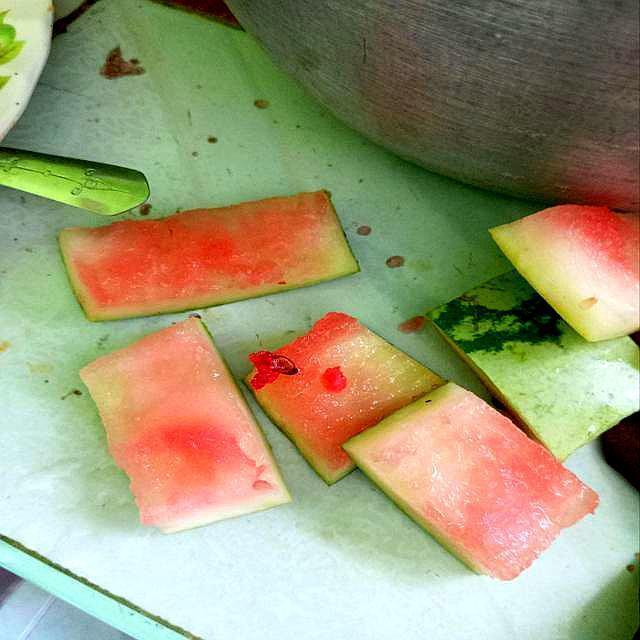Biodegradable: (343, 378, 611, 594), (76, 313, 297, 542), (420, 262, 637, 469), (55, 187, 367, 326), (234, 306, 454, 491), (491, 206, 640, 339)
